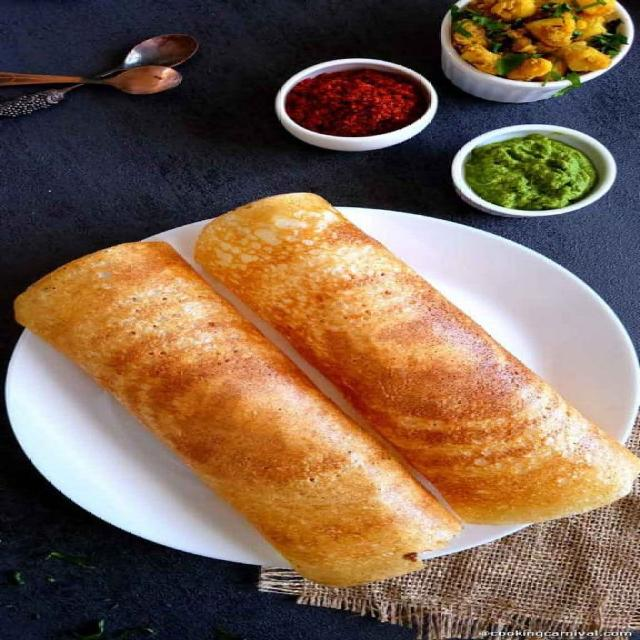dosa: (11, 214, 457, 604), (178, 178, 620, 538)
